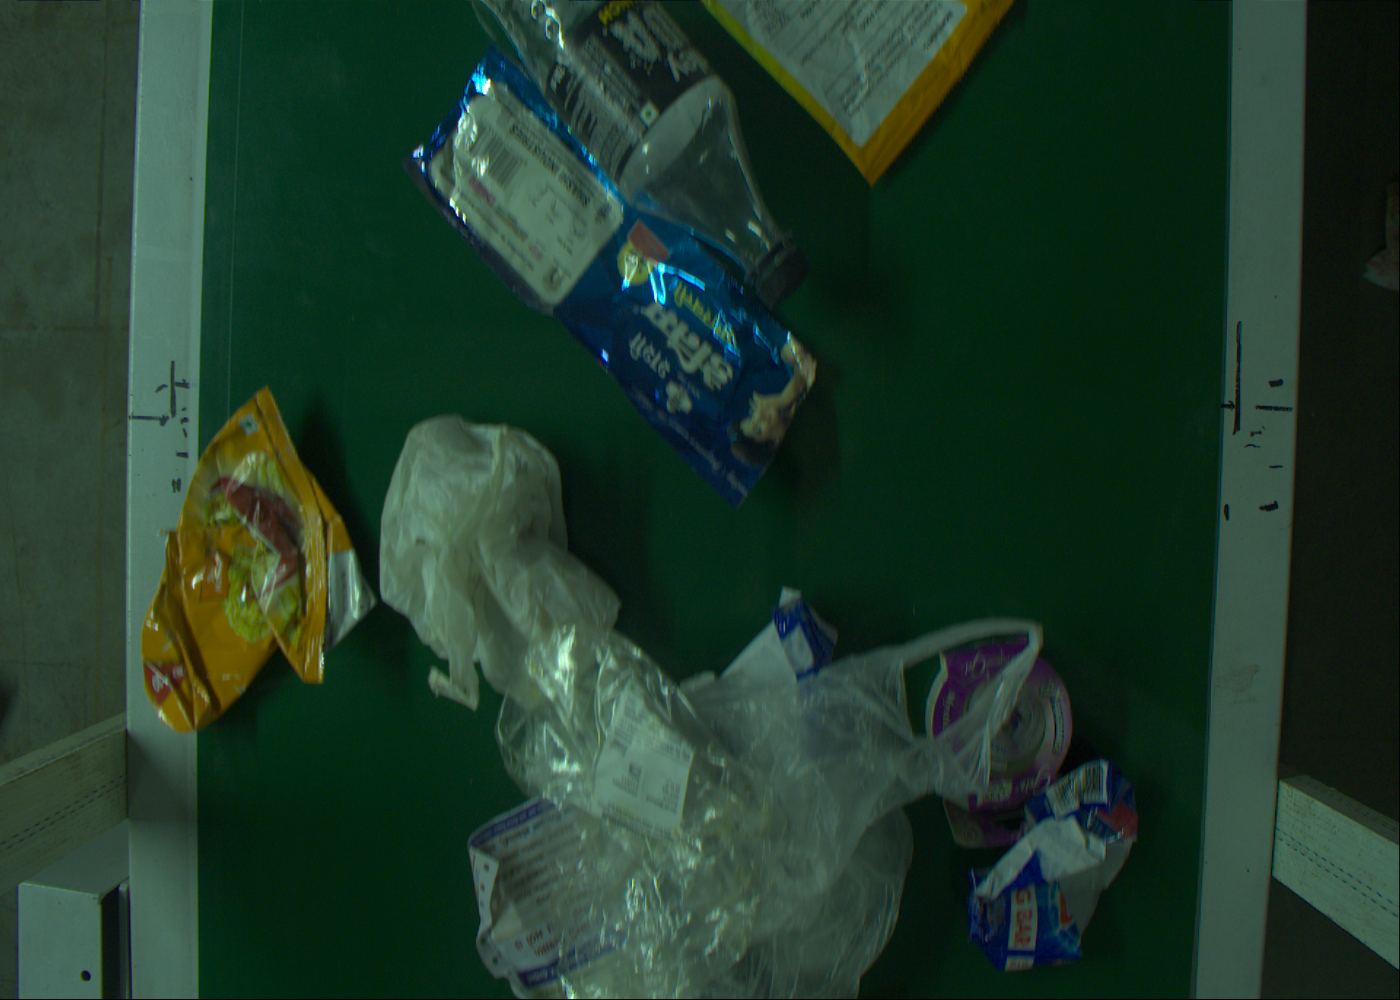hm_ldpe: (511, 636, 915, 988)
multilayer_plastic: (141, 400, 364, 742)
pet_bottle: (477, 1, 809, 312)
pp_w: (419, 63, 828, 531), (970, 764, 1136, 979)
